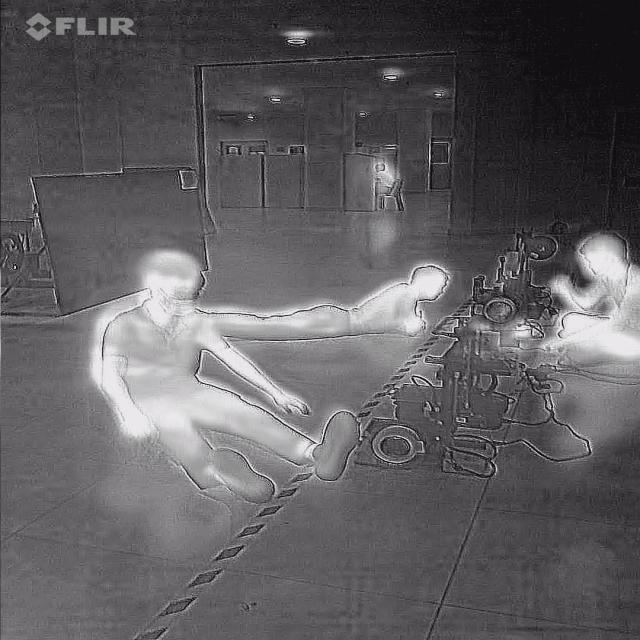Victim: (81, 244, 366, 506), (176, 259, 465, 340), (544, 230, 639, 364)
